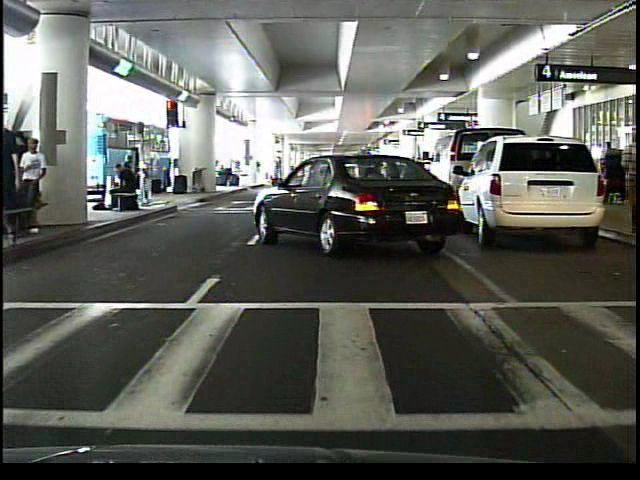person: (618, 131, 637, 232), (104, 161, 139, 215)
